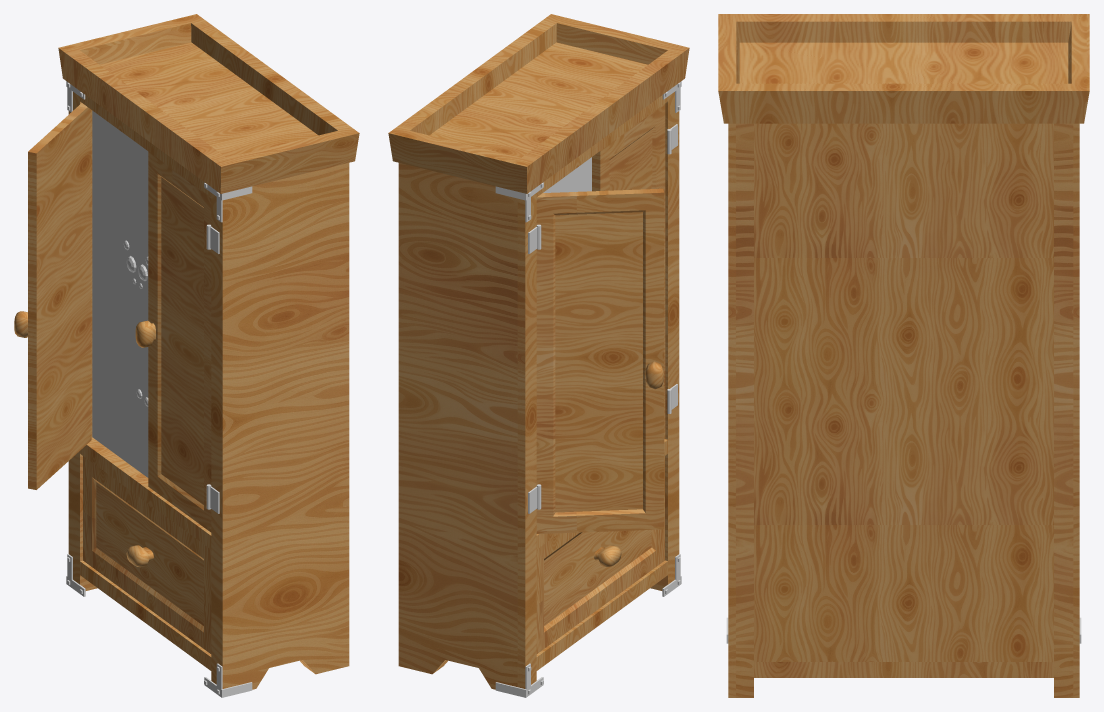
File: Lair_Wardrobe_Ajar.fbx
The picture shows the model from 3 angles, left to right: view 1: azimuth 30°, elevation 25°; view 2: azimuth 150°, elevation 25°; view 3: azimuth 270°, elevation 25°; orthographic projection. The views are drawn at different scales.
Parts seen in each view (by area): view 1: Lair_Wardrobe_Ajar; view 2: Lair_Wardrobe_Ajar; view 3: Lair_Wardrobe_Ajar.
Boxes of the visible parts, x1,y1,x2,y2 form: Lair_Wardrobe_Ajar: [14, 14, 359, 697]; Lair_Wardrobe_Ajar: [388, 14, 689, 697]; Lair_Wardrobe_Ajar: [718, 14, 1089, 697].
Bounding box in the file's own units: 1.02 × 2.28 × 1.26.
